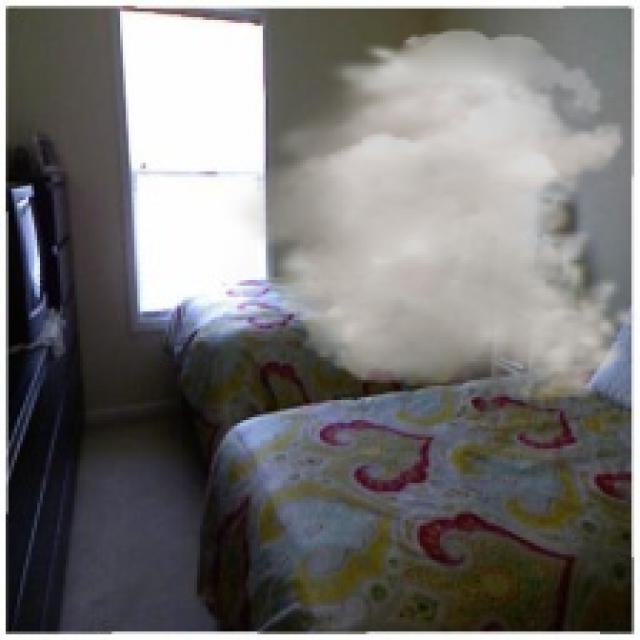smoke: (220, 28, 637, 403)
